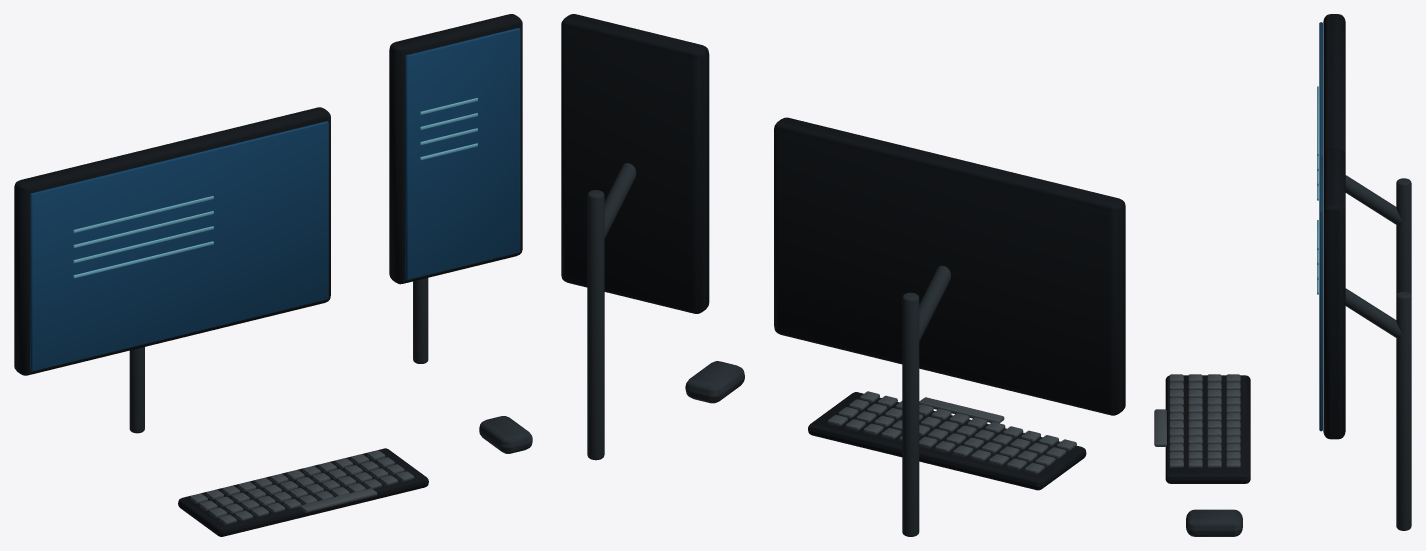
Rendered from urban-dual-monitor-kit-v1.glb.
3 renders of one model, left to right at view 1: azimuth 30°, elevation 25°; view 2: azimuth 150°, elevation 25°; view 3: azimuth 270°, elevation 25°, orthographic. The views are drawn at different scales.
Visible parts, largest first — view 1: Blue screen, Blue screen.001, Slim monitor, Slim monitor.001, Keyboard, Mouse, Monitor arm post, Monitor arm post.001, Spacebar; view 2: Slim monitor, Slim monitor.001, Keyboard, Monitor arm post.001, Monitor arm post, Mouse, Monitor arm.001, Monitor arm, Spacebar; view 3: Slim monitor.001, Keyboard, Monitor arm post.001, Slim monitor, Monitor arm post, Mouse, Blue screen.001, Monitor arm.001, Monitor arm, Blue screen, Spacebar.
Boxes of the visible parts, left/top/right/bottom form: Blue screen: left=30, top=121, right=328, bottom=371; Blue screen.001: left=405, top=28, right=520, bottom=279; Slim monitor: left=14, top=107, right=330, bottom=375; Slim monitor.001: left=389, top=14, right=522, bottom=284; Keyboard: left=178, top=448, right=428, bottom=536; Mouse: left=479, top=416, right=532, bottom=453; Monitor arm post: left=129, top=347, right=144, bottom=433; Monitor arm post.001: left=413, top=278, right=428, bottom=363; Spacebar: left=300, top=488, right=377, bottom=512; Slim monitor: left=774, top=117, right=1125, bottom=415; Slim monitor.001: left=561, top=14, right=709, bottom=313; Keyboard: left=808, top=392, right=1086, bottom=490; Monitor arm post.001: left=587, top=190, right=604, bottom=460; Monitor arm post: left=902, top=292, right=919, bottom=536; Mouse: left=685, top=361, right=744, bottom=403; Monitor arm.001: left=604, top=163, right=636, bottom=239; Monitor arm: left=918, top=265, right=950, bottom=341; Spacebar: left=919, top=397, right=1004, bottom=423; Slim monitor.001: left=1323, top=148, right=1345, bottom=439; Keyboard: left=1165, top=375, right=1250, bottom=483; Monitor arm post.001: left=1396, top=291, right=1411, bottom=530; Slim monitor: left=1323, top=14, right=1345, bottom=155; Monitor arm post: left=1396, top=178, right=1411, bottom=295; Mouse: left=1186, top=509, right=1242, bottom=536; Blue screen.001: left=1319, top=156, right=1322, bottom=431; Monitor arm.001: left=1345, top=288, right=1402, bottom=338; Monitor arm: left=1345, top=175, right=1402, bottom=225; Blue screen: left=1319, top=22, right=1322, bottom=157; Spacebar: left=1154, top=409, right=1166, bottom=446.
Bounding box in the file's own units: 0.905 × 0.633 × 0.407.
5 materials, 5 textured.
